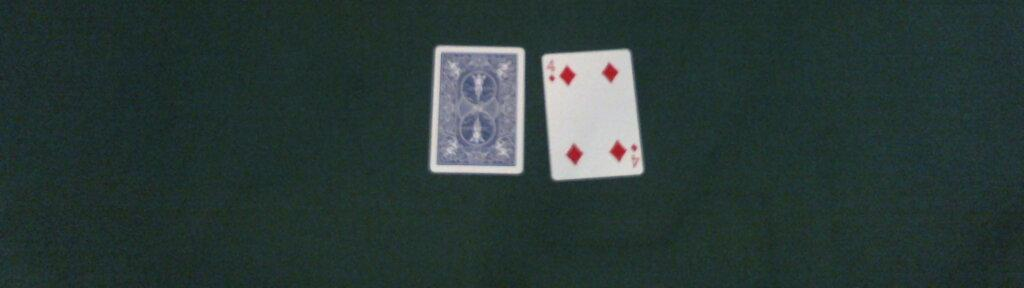back: (429, 46, 527, 175)
four: (540, 48, 645, 181)
